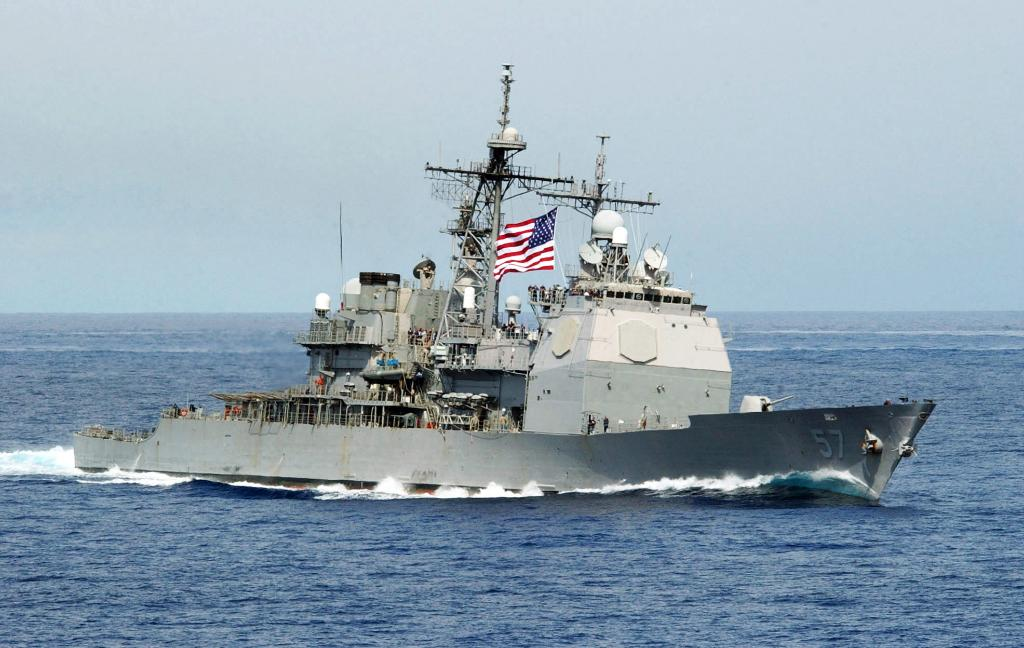Warship: (69, 50, 941, 512)
